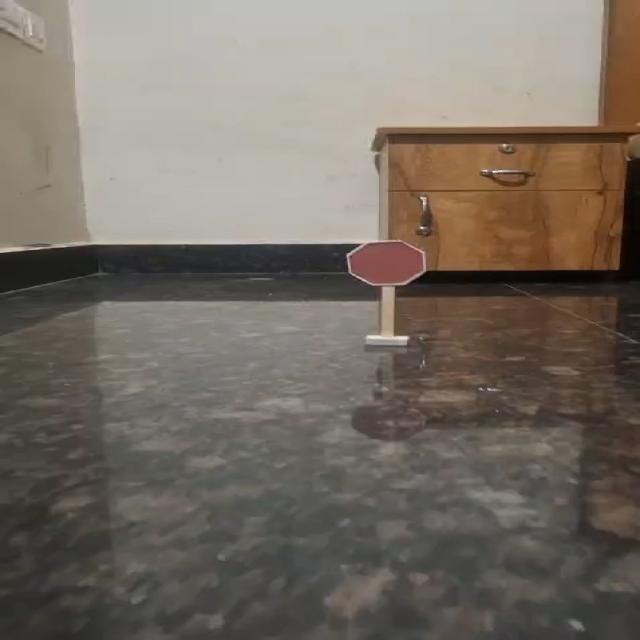Stop: (331, 232, 449, 296)
